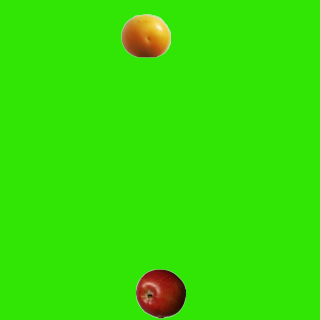Apple Braeburn: (135, 268, 185, 318)
Cherry Wax Yellow: (120, 10, 170, 60)
